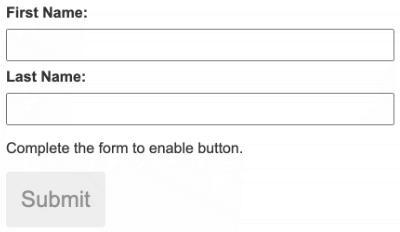button: (6, 172, 107, 229)
input: (7, 30, 396, 62), (8, 94, 396, 126)
label: (6, 141, 244, 157), (7, 7, 89, 22), (7, 71, 88, 86)
